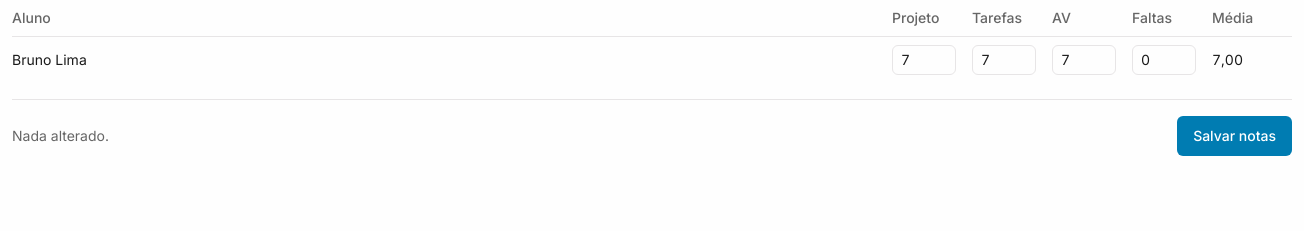
Test: GradeDeNotas › não salva quando nada mudou
The width and height of the screenshot is (1304, 231).
Click the button "Salvar notas".
click(1235, 136)  # box [1177,116,1292,156]
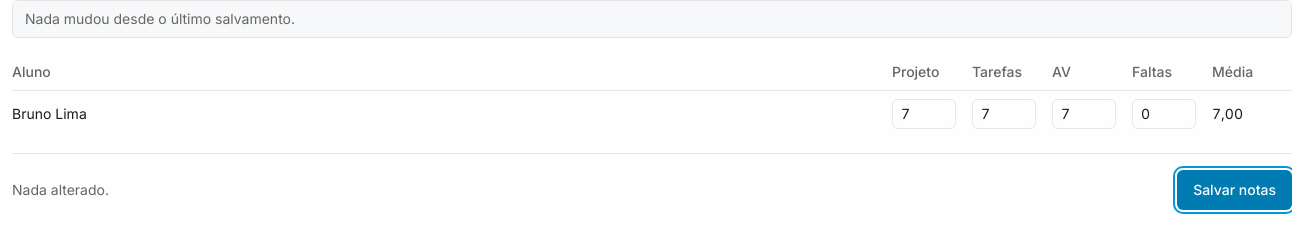
Expected: the text "Nada mudou desde o último salvamento." is shown, [12,0,1292,38]
